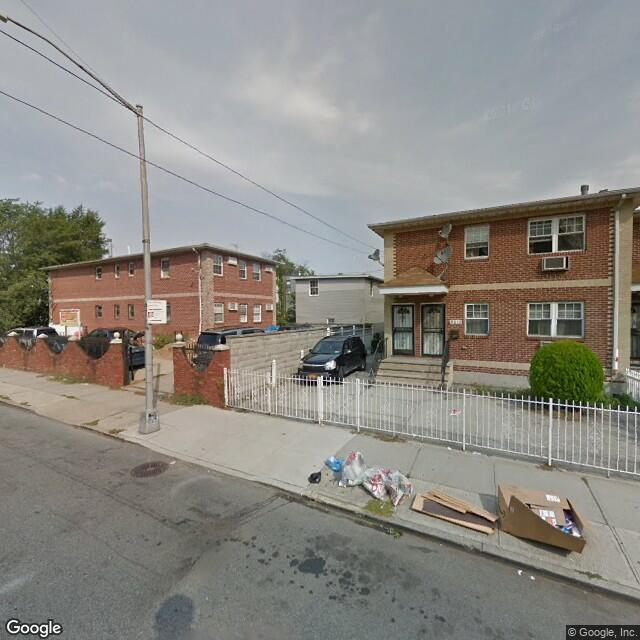litter: (497, 482, 585, 556), (409, 488, 497, 535), (363, 465, 409, 507), (336, 449, 364, 488), (326, 455, 341, 470), (307, 472, 322, 484), (450, 408, 460, 416), (472, 450, 483, 456), (82, 381, 89, 387), (530, 575, 536, 580), (520, 569, 522, 575), (444, 446, 450, 448)
